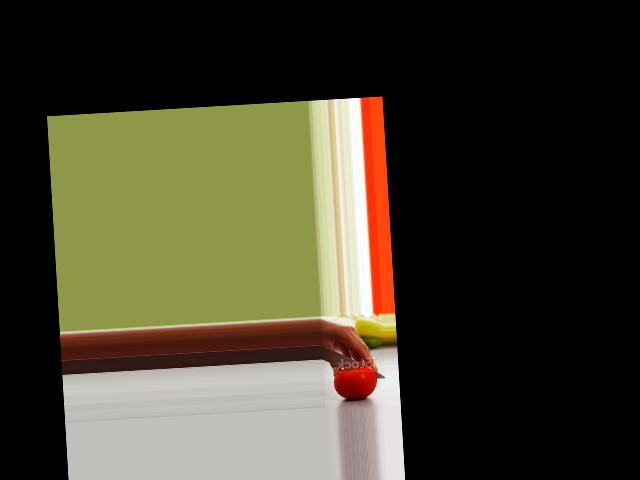tomato: (332, 365, 378, 401)
